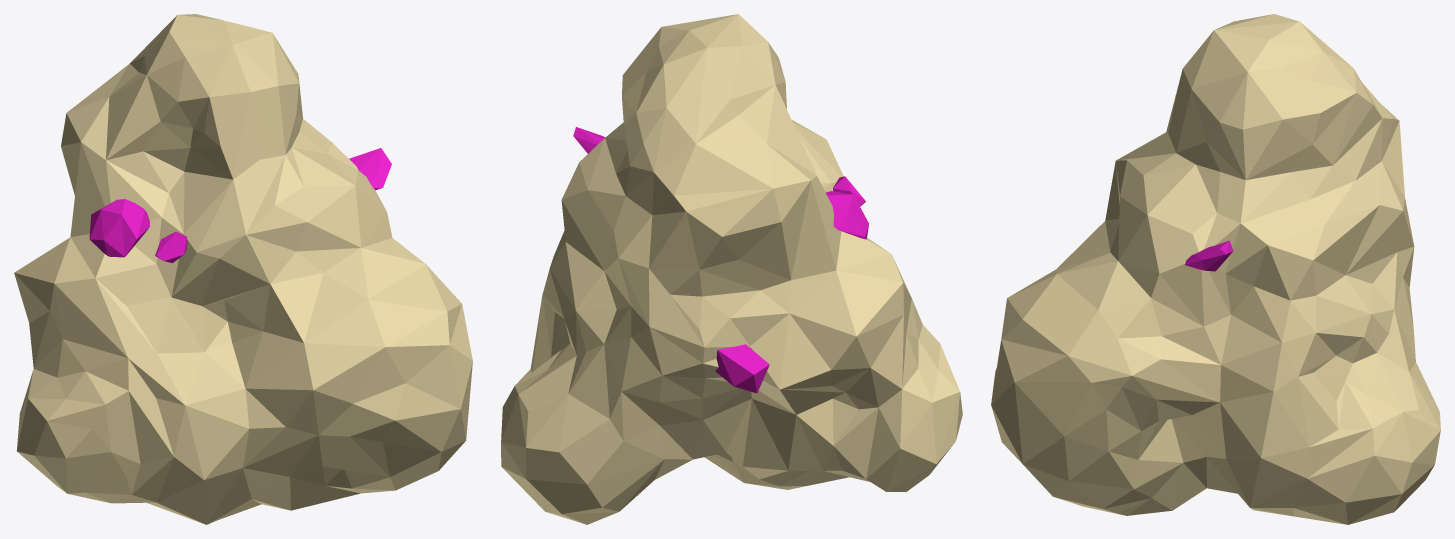
File: CrystalOre (13).fbx
The picture shows the model from 3 angles, left to right: view 1: azimuth 30°, elevation 25°; view 2: azimuth 150°, elevation 25°; view 3: azimuth 270°, elevation 25°; orthographic projection. The views are drawn at different scales.
Parts seen in each view (by area): view 1: Asteroid233; view 2: Asteroid233; view 3: Asteroid233.
Part boxes in pixels (x1=…): Asteroid233: x1=14, y1=14, x2=472, y2=524; Asteroid233: x1=501, y1=14, x2=962, y2=524; Asteroid233: x1=991, y1=14, x2=1440, y2=524.
Bounding box in the file's own units: 264 × 310 × 273.
